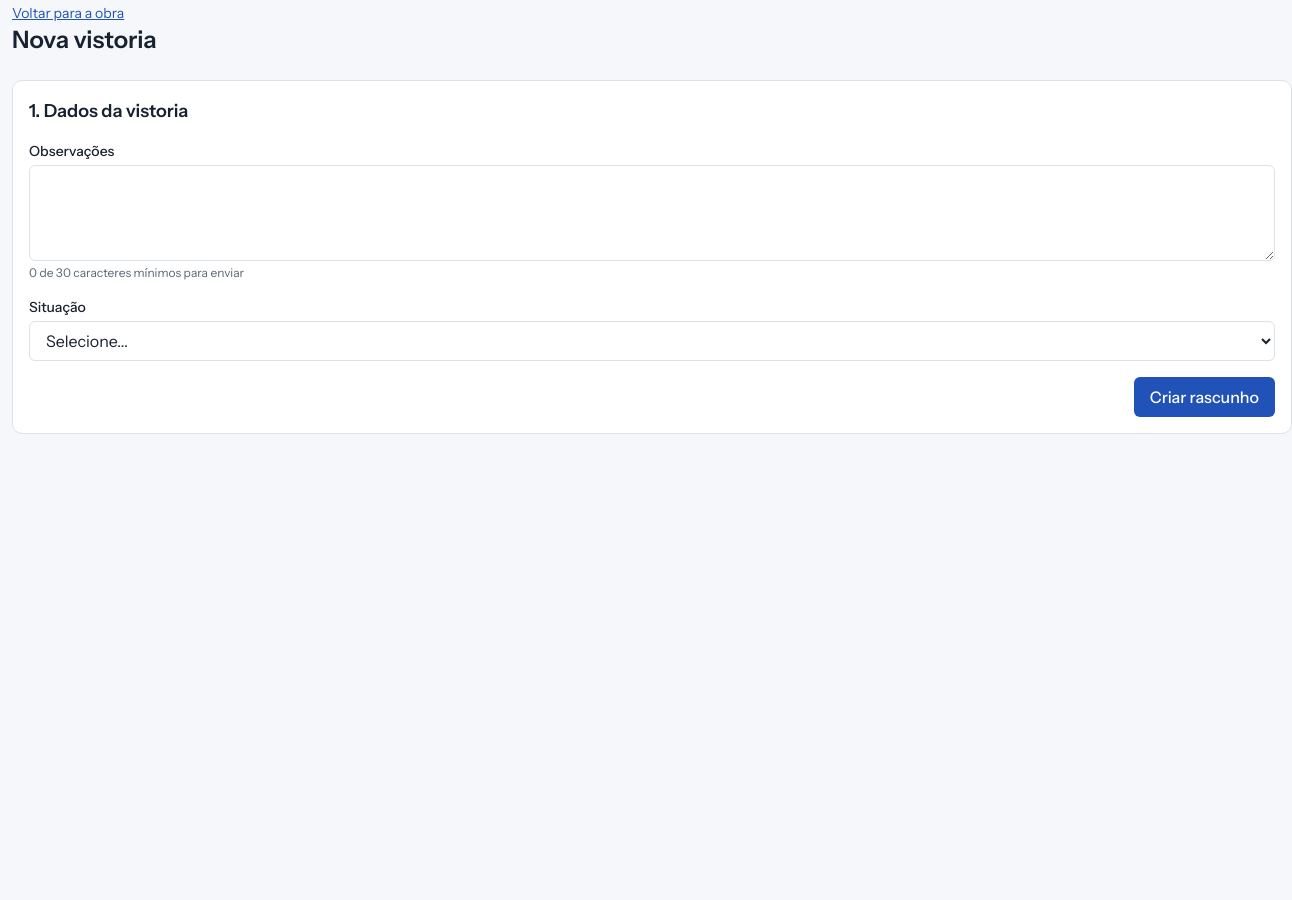
Scenario: NewInspectionPage › creates the draft, then shows the uploader with Enviar disabled until there is a photo
Expected: the heading "2. Fotos e envio" is not shown
In the text box labelled "Observações": (652, 213) top-left (29, 165), bottom-right (1275, 261), type "Observação suficientemente detalhada para o envio."
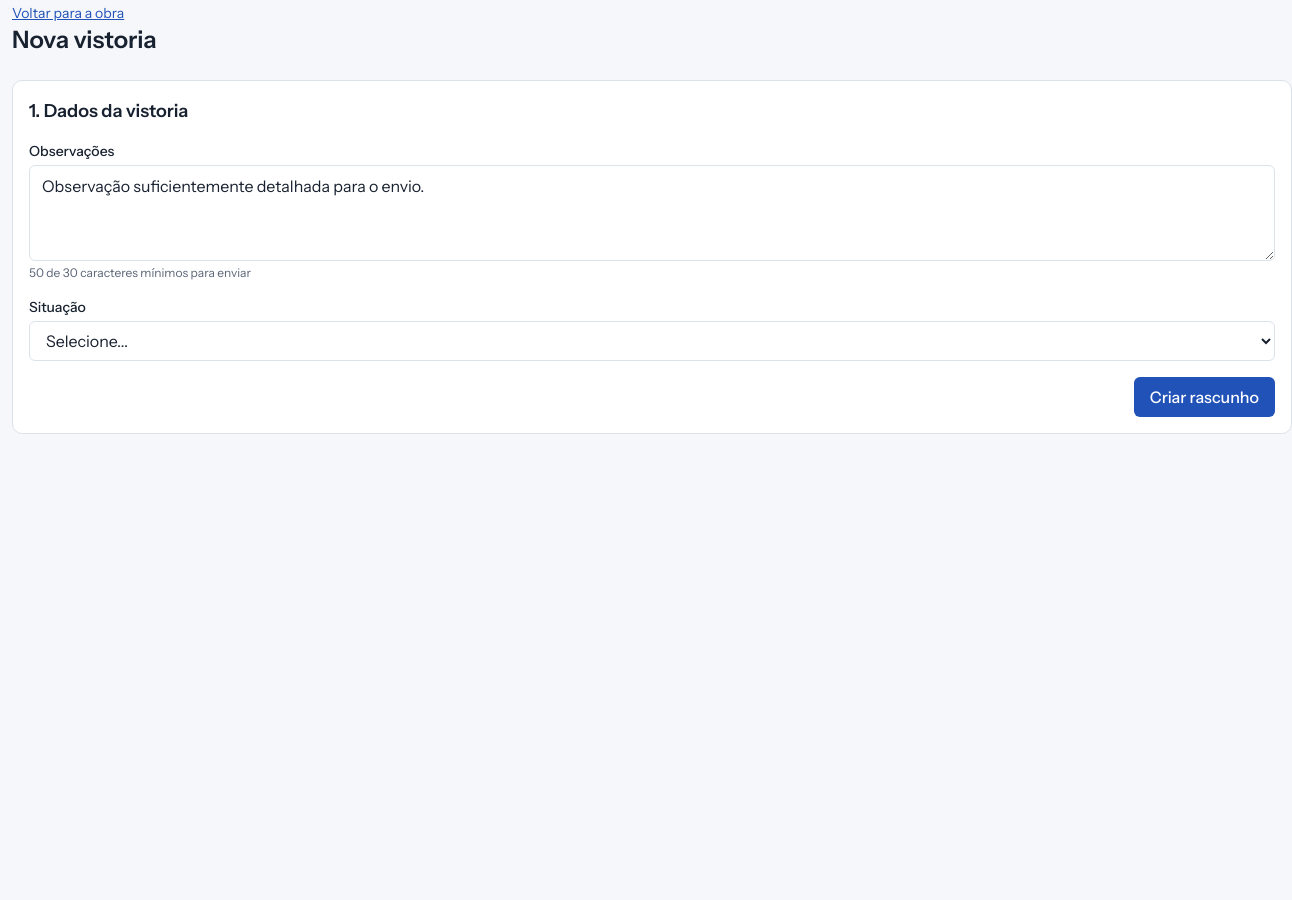
Select "Conforme" in the dropdown labelled "Situação": (652, 341) top-left (29, 321), bottom-right (1275, 361)
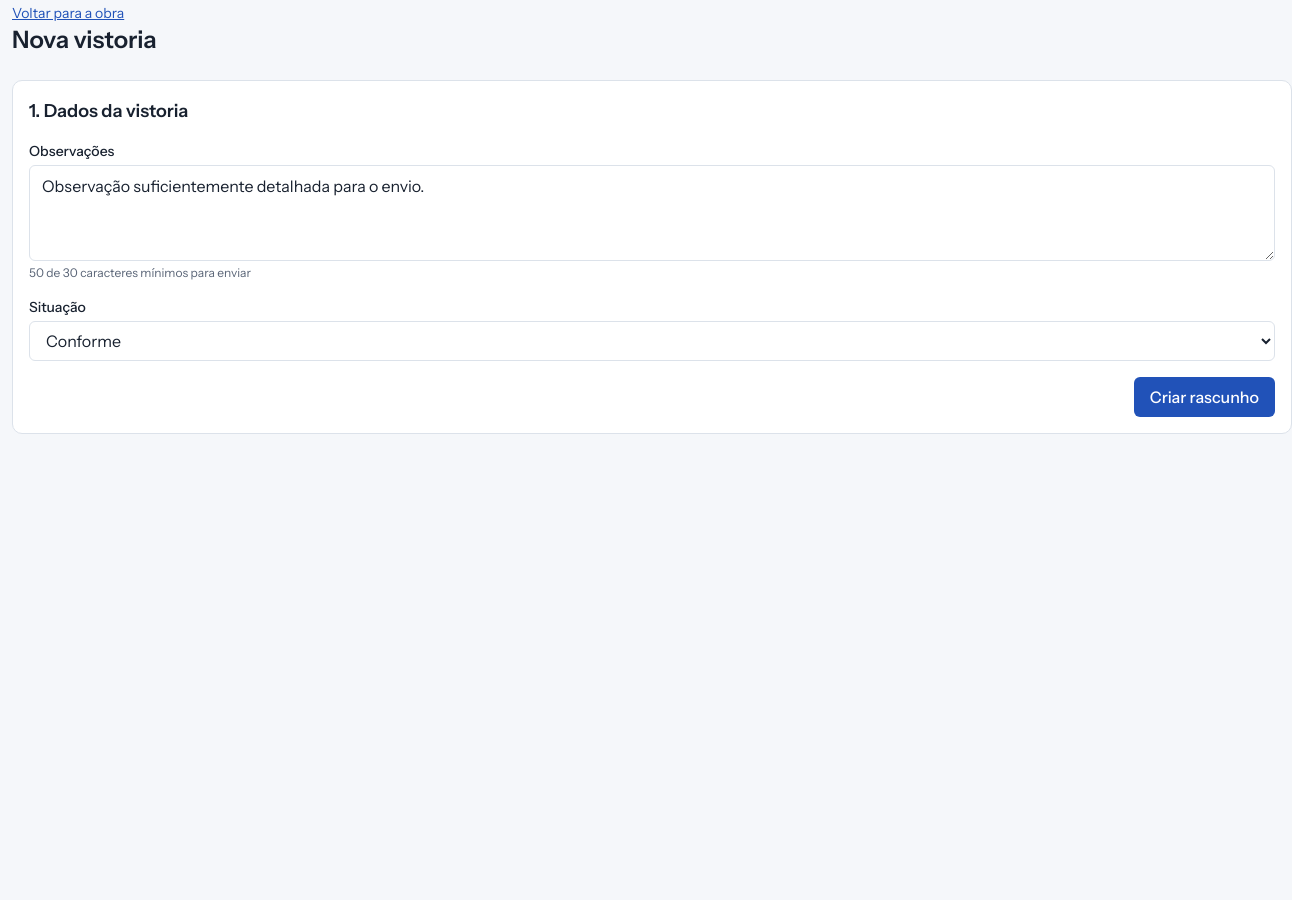
Click the button "Criar rascunho": (1204, 397) top-left (1134, 377), bottom-right (1275, 417)
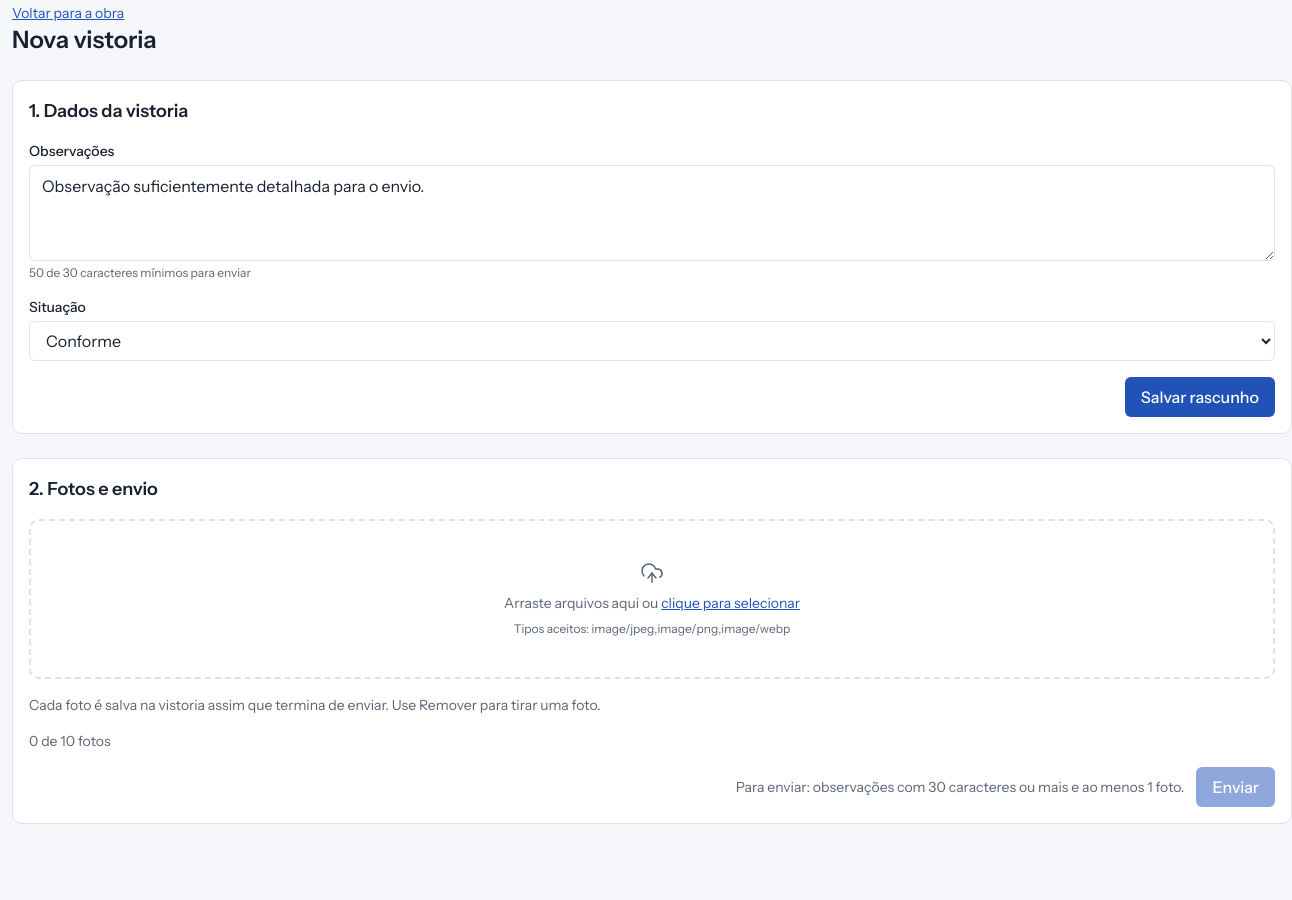
Expected: the heading "2. Fotos e envio" is shown, top-left (29, 478), bottom-right (158, 500)
Expected: the element named "Selecionar arquivos" is shown, top-left (29, 519), bottom-right (1275, 679)
Expected: the button "Enviar" is disabled, top-left (1196, 767), bottom-right (1275, 807)
